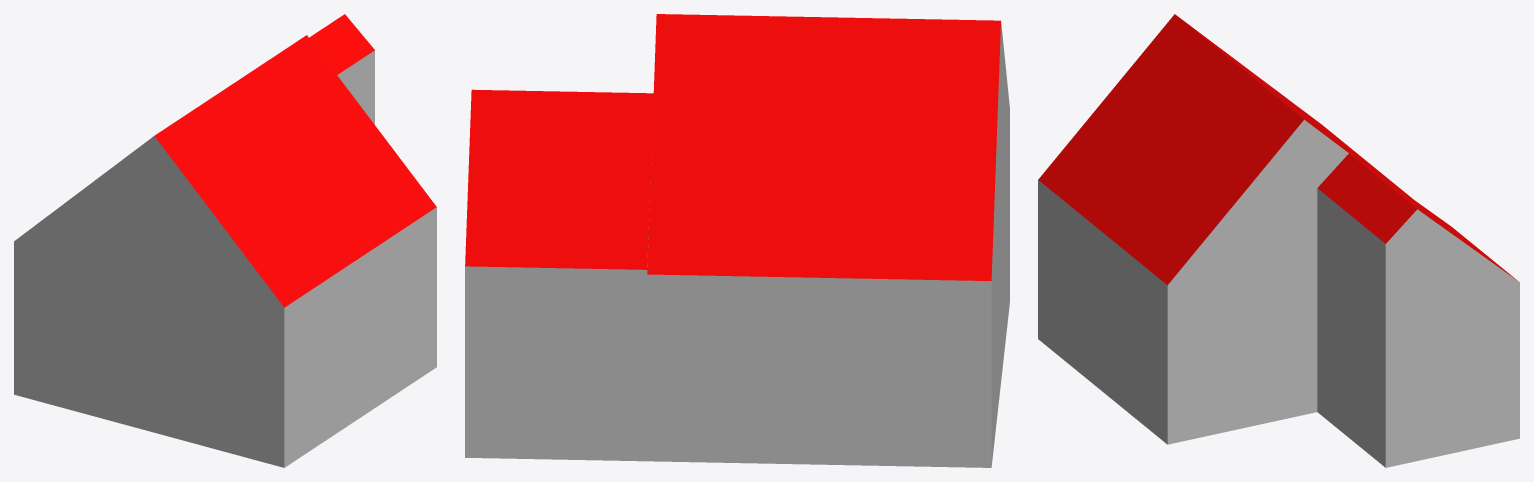
The picture shows the model from 3 angles, left to right: view 1: azimuth 30°, elevation 25°; view 2: azimuth 150°, elevation 25°; view 3: azimuth 270°, elevation 25°; orthographic projection. The views are drawn at different scales.
Size of the model in its own units: 12.09 by 8.73 by 12.9.
